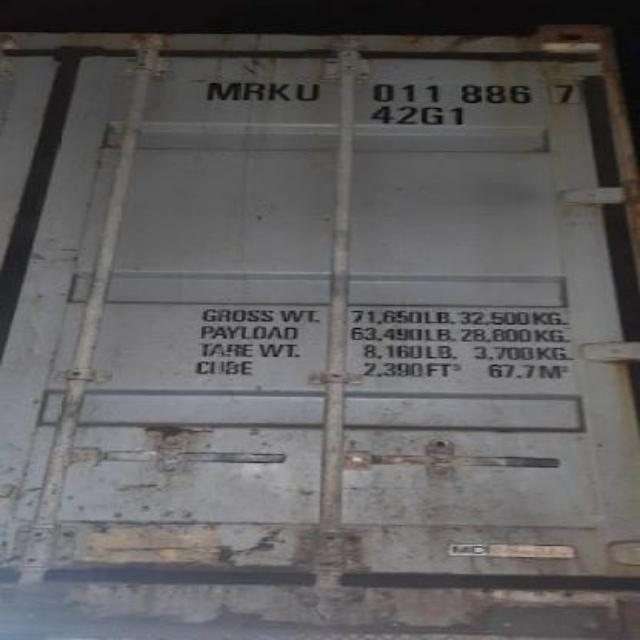0: (372, 83, 396, 103)
1: (420, 82, 444, 104), (396, 83, 420, 101)
6: (508, 84, 534, 105)
7: (550, 84, 580, 102)
8: (458, 83, 484, 103), (486, 82, 508, 104)
K: (268, 82, 294, 102)
M: (205, 82, 241, 102)
R: (242, 82, 268, 102)
U: (294, 83, 322, 101)
